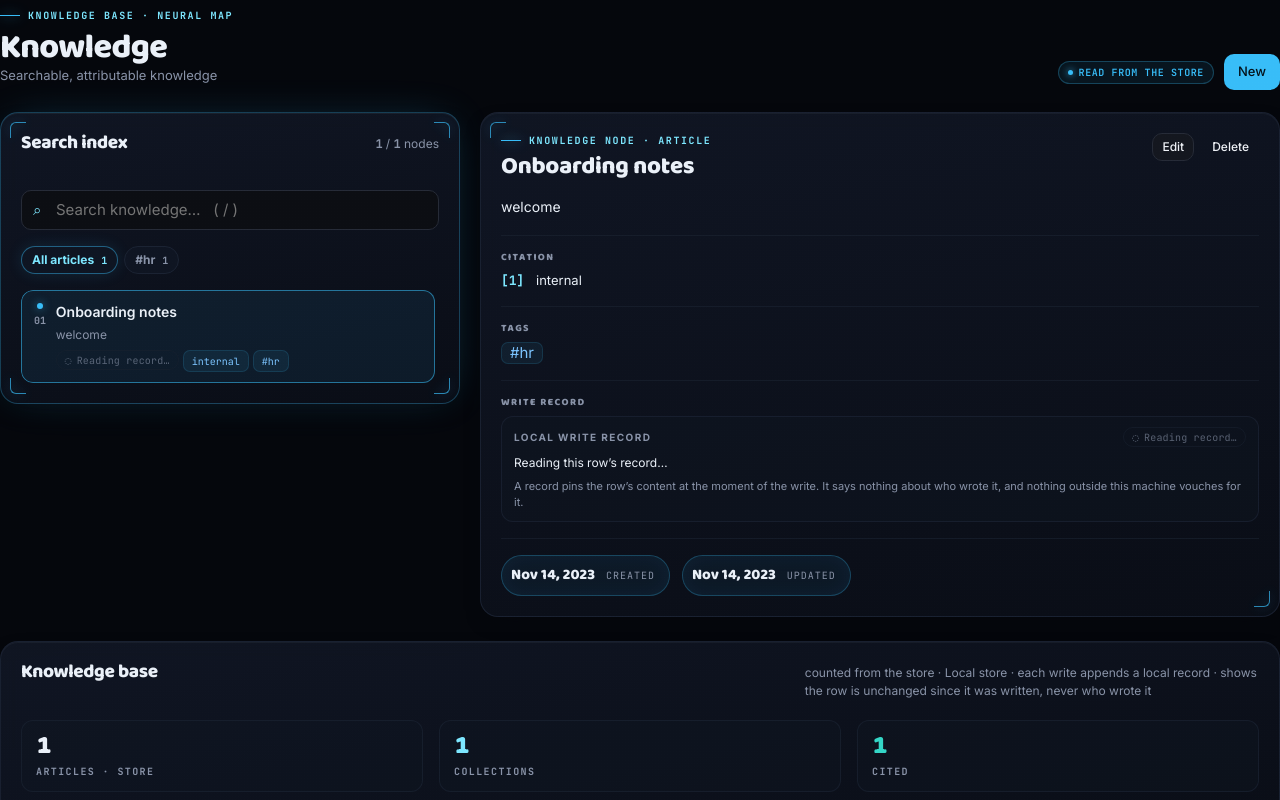
Test: Knowledge — a REFUSED delete is surfaced, never swallowed › keeps the article, shows the refusal with its reason, and never says "deleted"
Expected: the text "Onboarding notes" is shown, [56, 303, 177, 320]
Click the button "Delete". click: (1231, 147)
box: [1202, 133, 1259, 161]
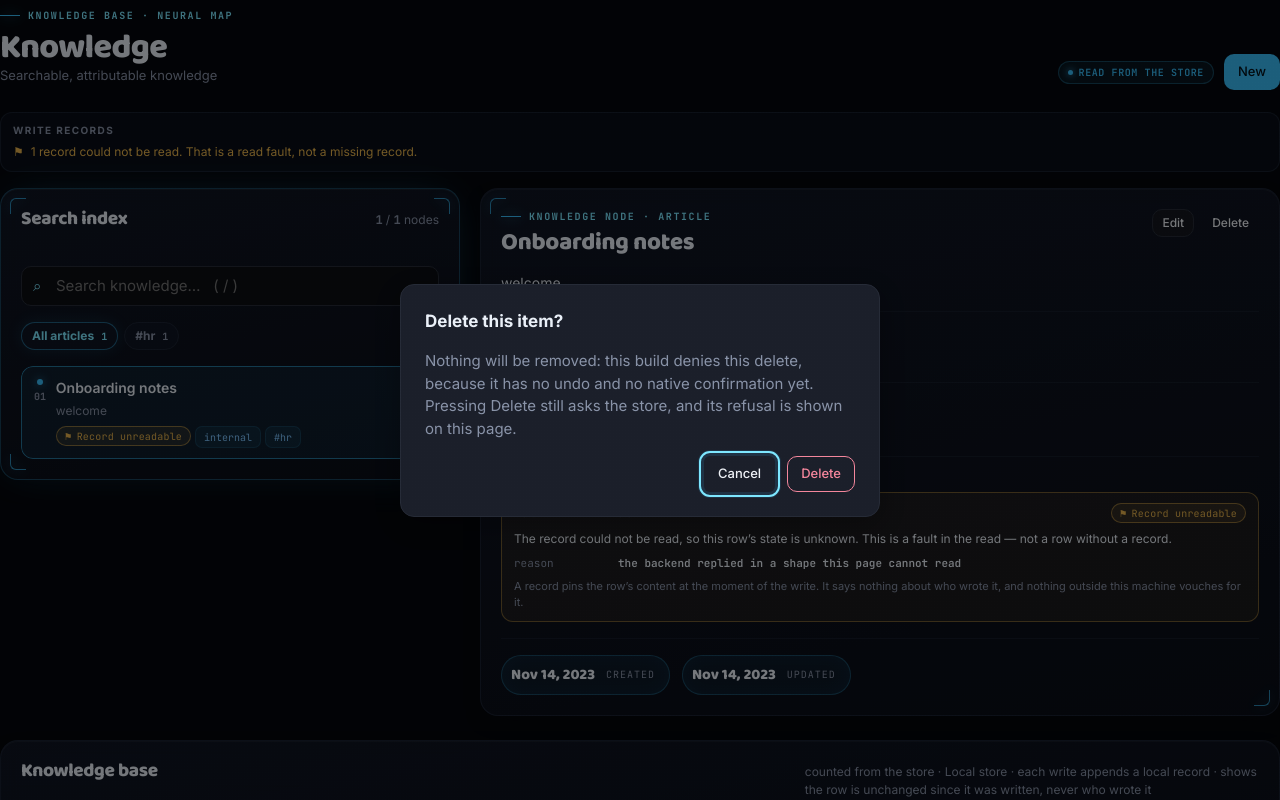
Expected: the dialog does not show "cannot be undone", [400, 284, 880, 516]
Now the dialog shows "Nothing will be removed", box [425, 351, 842, 438]
Now the button "Delete" is shown
Click the button "Delete". click: (821, 474)
box: [787, 456, 855, 492]
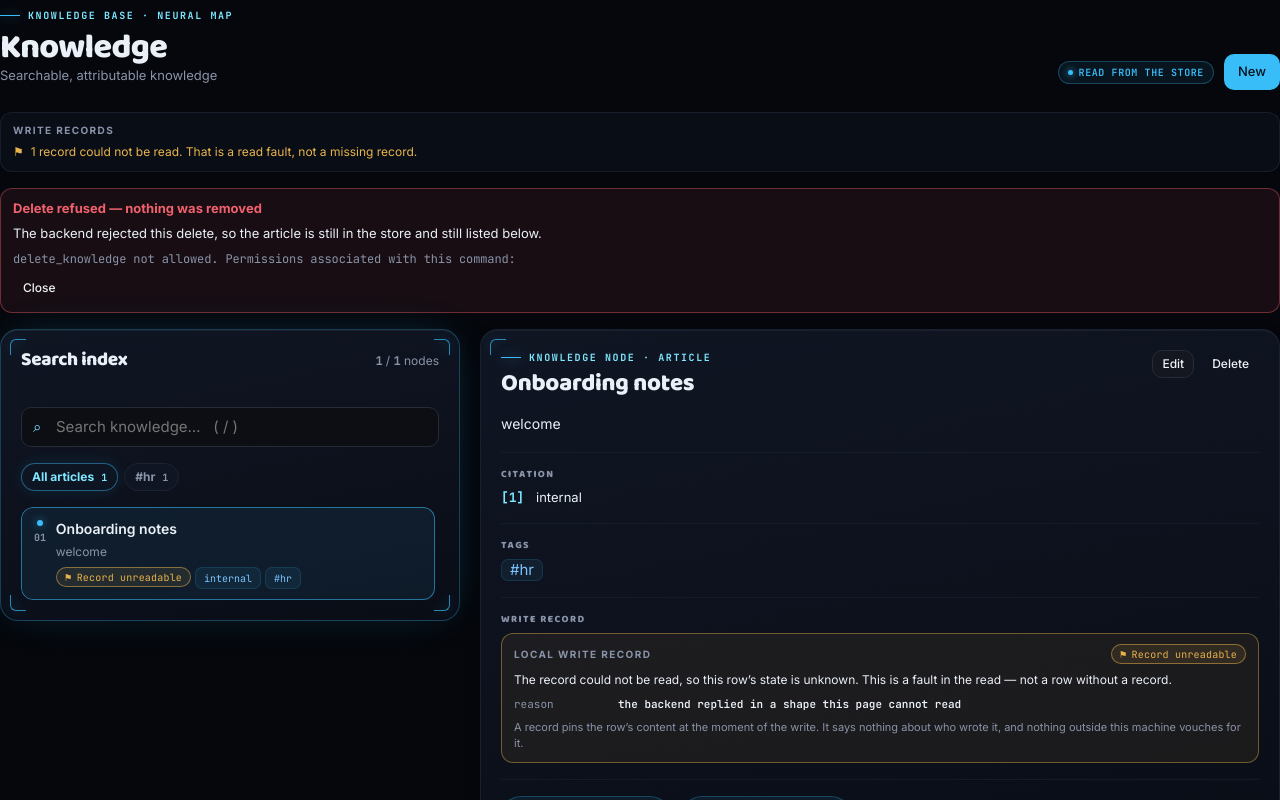
Now the message that starts with "Delete refused — nothing was removed" is shown, box [13, 200, 262, 216]
Now the message that starts with "Delete refused — nothing was removed" shows "still in the store", box [13, 225, 542, 241]
Now the message that starts with "Delete refused — nothing was removed" shows "delete_knowledge not allowed", box [13, 251, 516, 267]
